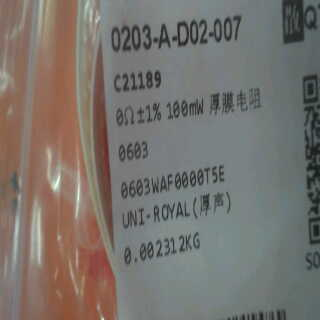0R: (112, 96, 164, 167)
